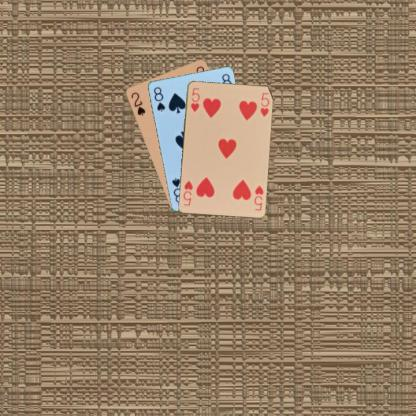2s: (128, 90, 146, 116)
5h: (251, 182, 265, 212), (188, 85, 201, 113)
8s: (151, 84, 166, 113)
